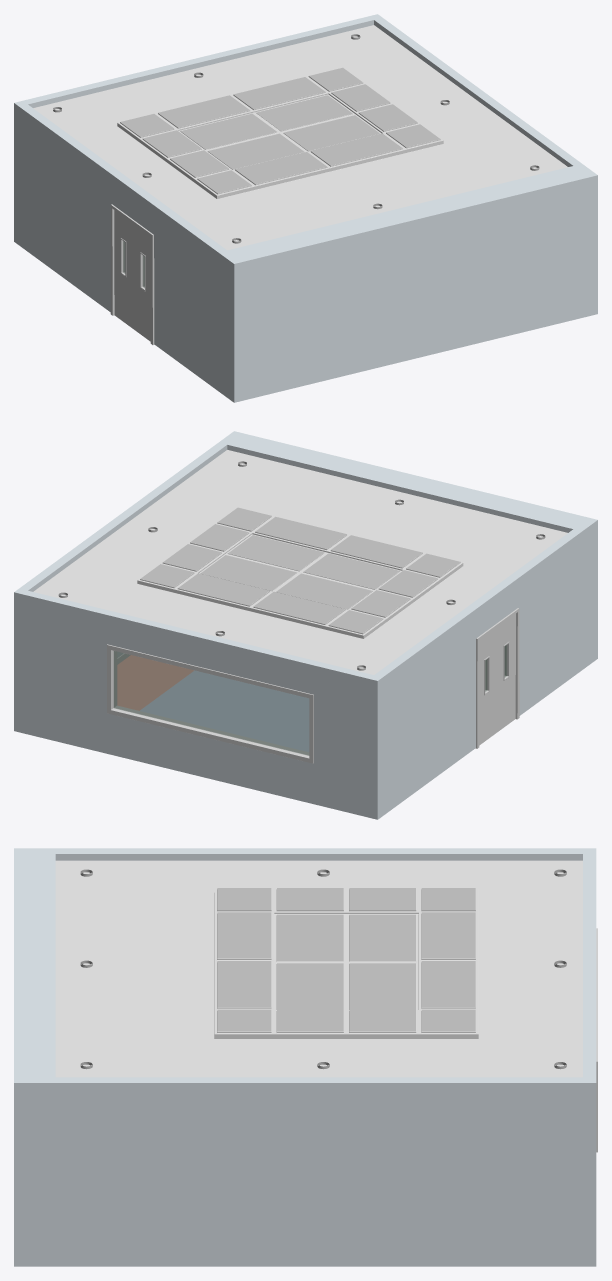
File: OR_dec_fixed.fbx
3 views of the same model, one above another, from view 1: azimuth 30°, elevation 25°; view 2: azimuth 150°, elevation 25°; view 3: azimuth 270°, elevation 25° (orthographic). The views are drawn at different scales.
Visible parts, largest first — view 1: OR_dec; view 2: OR_dec; view 3: OR_dec.
Boxes of the visible parts, x1,y1,x2,y2 form: OR_dec: (14, 14, 597, 402); OR_dec: (14, 431, 597, 819); OR_dec: (14, 848, 597, 1266).
Size of the model in its own units: 826 by 301 by 865.
